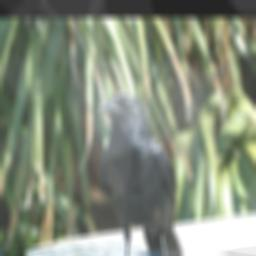Crow: (99, 93, 183, 256)
